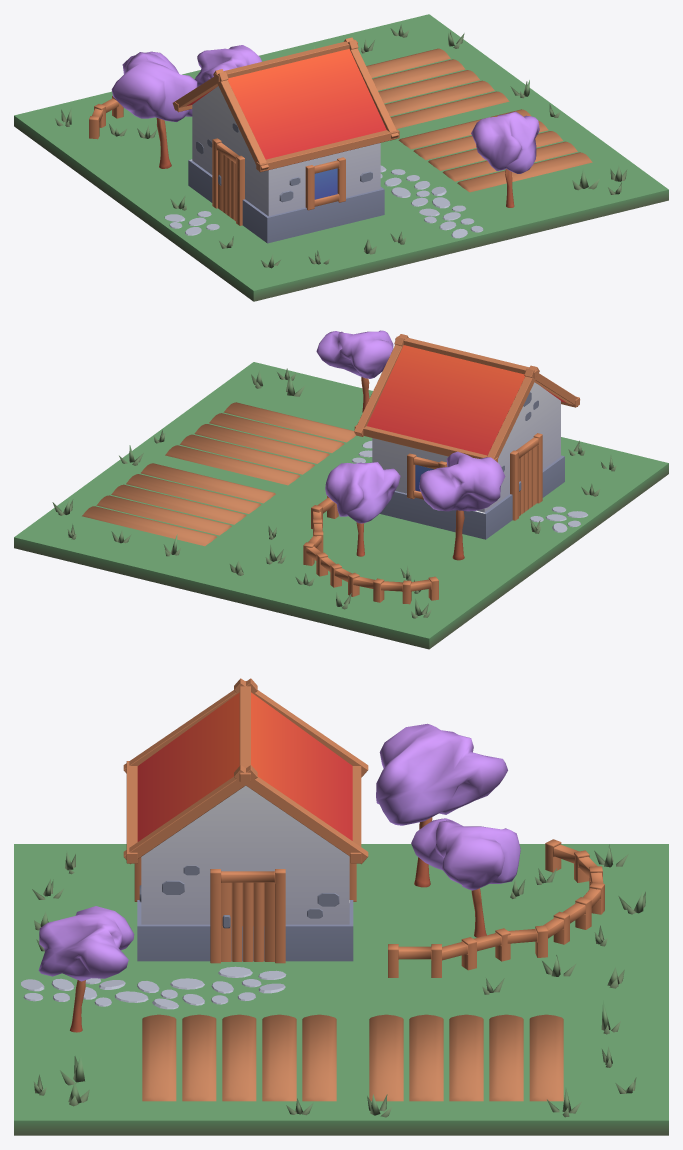
The model's file is farm_house.glb.
3 views of the same model, one above another, from view 1: azimuth 30°, elevation 25°; view 2: azimuth 150°, elevation 25°; view 3: azimuth 270°, elevation 25° (orthographic). The views are drawn at different scales.
Visible parts, largest first — view 1: farm_house; view 2: farm_house; view 3: farm_house.
Boxes of the visible parts, box(x1,y1,x2,y2) form: farm_house: box(14, 14, 668, 301); farm_house: box(14, 330, 668, 649); farm_house: box(14, 678, 668, 1135).
Bounding box in the file's own units: 2 × 0.7169 × 2.
1 material, 1 textured.
